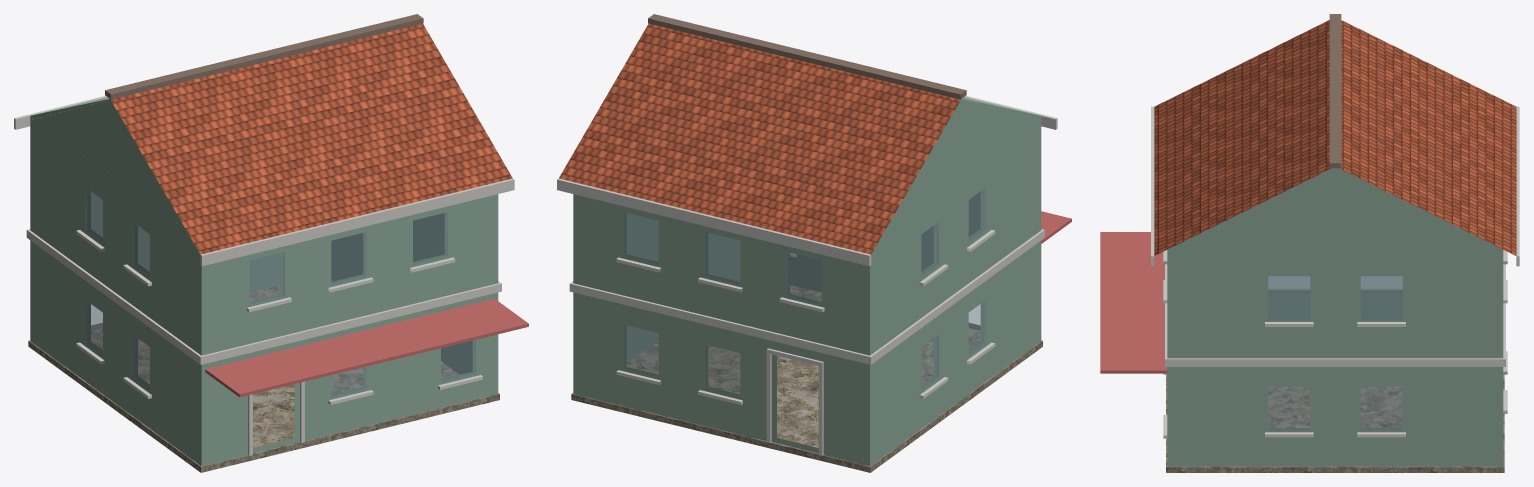
Rendered from cove-house-green.reveal-v1.lod1.glb.
The picture shows the model from 3 angles, left to right: view 1: azimuth 30°, elevation 25°; view 2: azimuth 150°, elevation 25°; view 3: azimuth 270°, elevation 25°; orthographic projection. The views are drawn at different scales.
Visible parts, largest first — view 1: cove-house-green; view 2: cove-house-green; view 3: cove-house-green.
Part boxes in pixels (box(x1,y1,x2,y2)): cove-house-green: box(14, 14, 528, 472); cove-house-green: box(557, 14, 1071, 472); cove-house-green: box(1100, 14, 1519, 472).
Size of the model in its own units: 8.42 by 8.23 by 9.99.
Materials: 4 (2 with a texture image).
